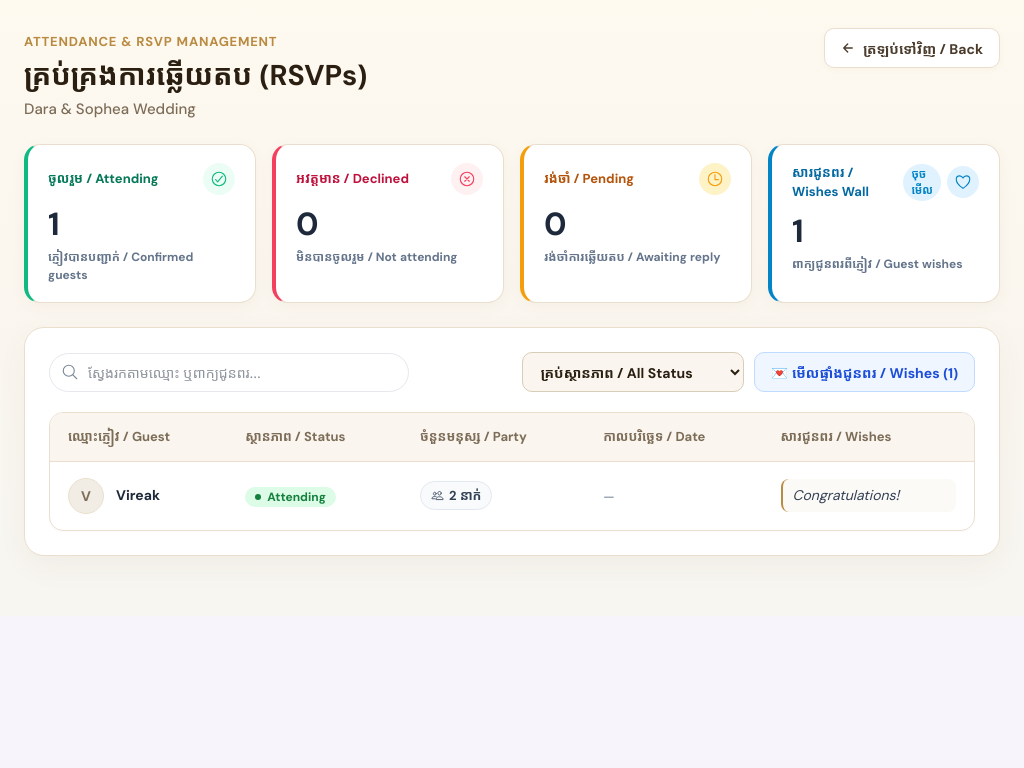
RsvpDashboardPage Module › allows switching to wishes card view mode
Click the button "Wishes": (884, 223) left=768, top=144, right=1000, bottom=303
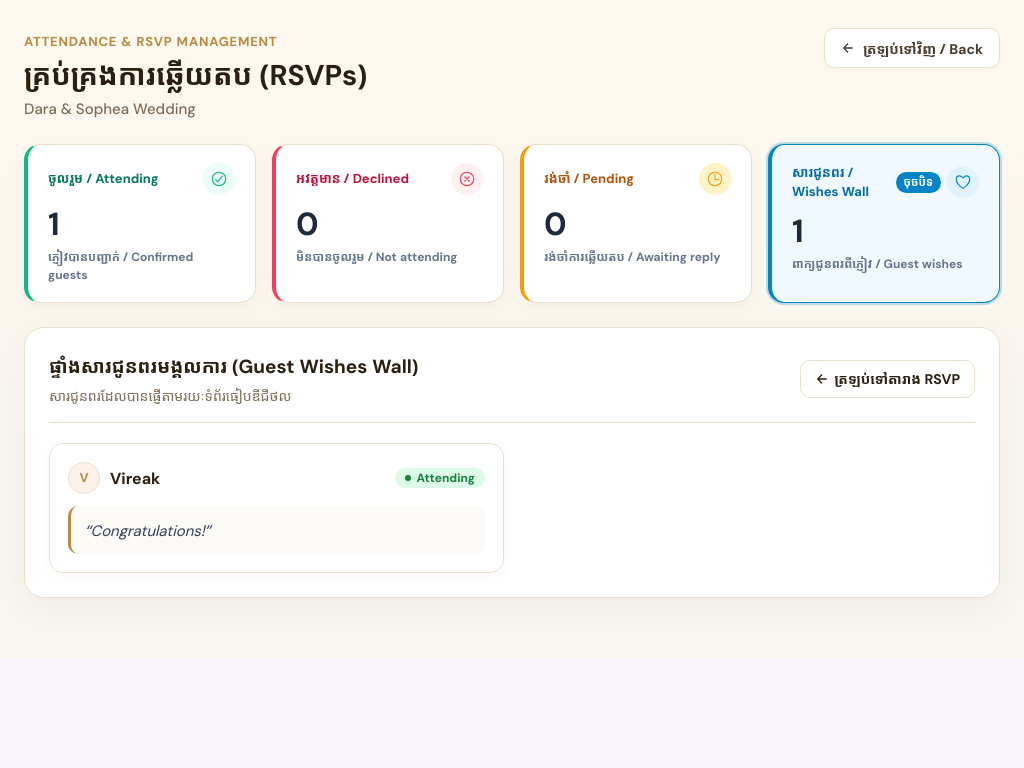
Now the text "“Congratulations!”" is shown, box left=68, top=506, right=485, bottom=554
